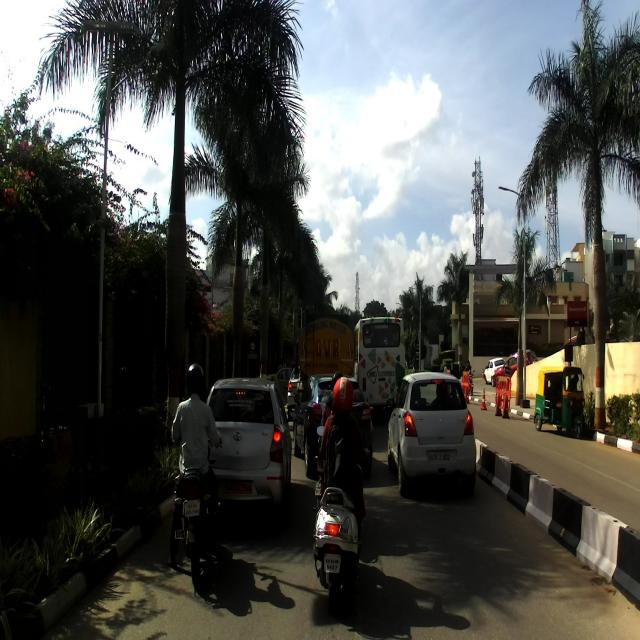autorickshaw: (533, 365, 586, 440)
car: (202, 374, 298, 531), (384, 367, 478, 506), (292, 374, 372, 489)
motorcycle: (169, 428, 223, 591)
scooter: (310, 424, 370, 606)
